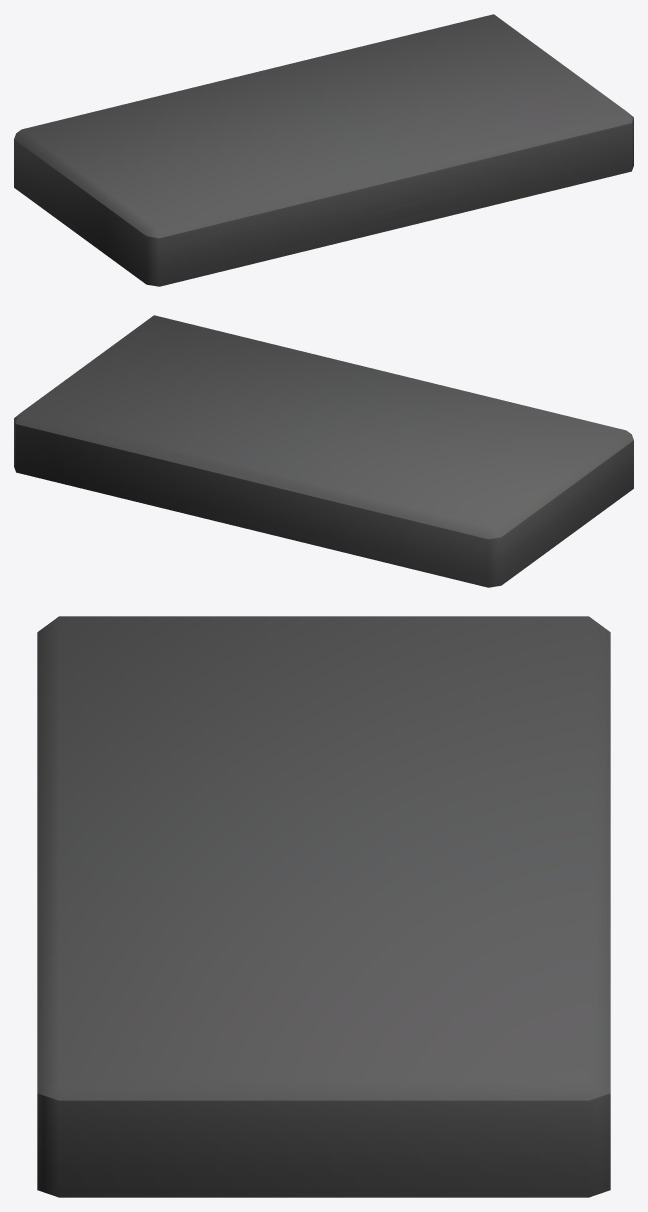
Rendered from Grave_1_1.glb.
The picture shows the model from 3 angles, top to bottom: view 1: azimuth 30°, elevation 25°; view 2: azimuth 150°, elevation 25°; view 3: azimuth 270°, elevation 25°; orthographic projection. The views are drawn at different scales.
Visible parts, largest first — view 1: Grave_1_1; view 2: Grave_1_1; view 3: Grave_1_1.
Part boxes in pixels (bbox=[...]): Grave_1_1: bbox=[14, 14, 633, 286]; Grave_1_1: bbox=[14, 315, 633, 587]; Grave_1_1: bbox=[37, 616, 610, 1197].
Bounding box in the file's own units: 1.69 × 0.1866 × 0.8601.
1 material, 1 textured.
